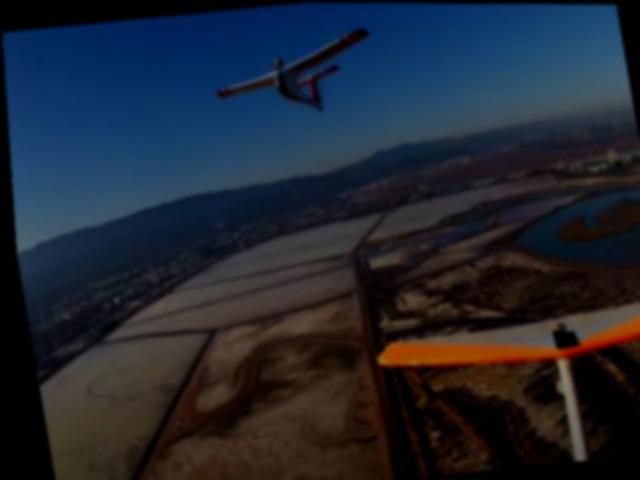uav: (205, 21, 391, 135)
